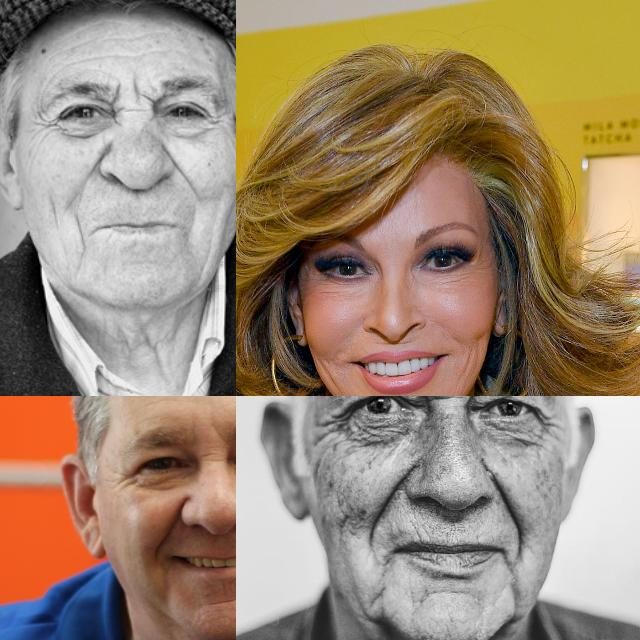chin: (418, 587, 478, 609), (367, 590, 388, 612)
crows_feet: (27, 106, 55, 140), (533, 412, 559, 444), (324, 409, 352, 437), (112, 463, 138, 493), (202, 102, 224, 132), (303, 269, 323, 289), (474, 253, 492, 273)
frown_line: (107, 77, 155, 109), (191, 446, 229, 466), (423, 396, 444, 409)
gummy_smile: (492, 473, 524, 539), (366, 480, 402, 532), (161, 144, 197, 190), (154, 511, 182, 555), (82, 140, 108, 178)
masseter: (315, 356, 345, 396), (333, 510, 357, 552), (463, 341, 483, 384), (45, 196, 63, 222)
sad_smile: (74, 219, 90, 251), (504, 550, 516, 590), (378, 548, 394, 576)
smoker_lines: (374, 336, 416, 352)
